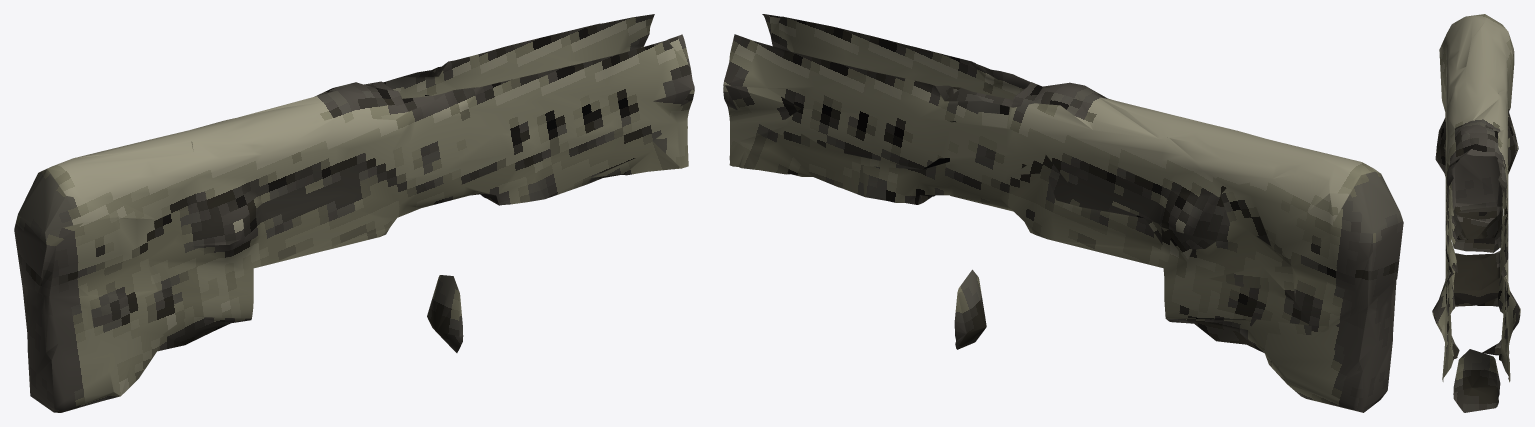
File: cuerpo_culata.glb
The picture shows the model from 3 angles, left to right: view 1: azimuth 30°, elevation 25°; view 2: azimuth 150°, elevation 25°; view 3: azimuth 270°, elevation 25°; orthographic projection. The views are drawn at different scales.
Parts seen in each view (by area): view 1: geometry_0; view 2: geometry_0; view 3: geometry_0.
Boxes of the visible parts, left/top/right/bottom form: geometry_0: left=14, top=14, right=694, bottom=412; geometry_0: left=723, top=14, right=1403, bottom=412; geometry_0: left=1432, top=14, right=1520, bottom=412.
Bounding box in the file's own units: 0.7867 × 0.3339 × 0.1102.
1 material, 1 textured.
